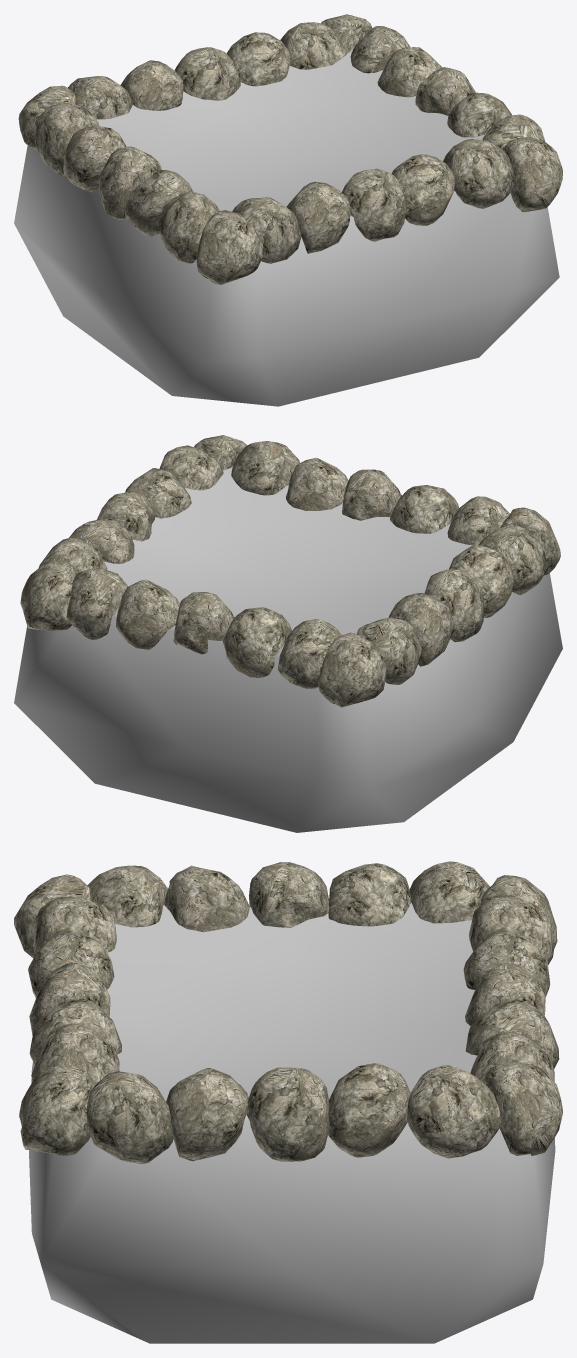
Rendered from dirtfoundation.FBX.
The picture shows the model from 3 angles, top to bottom: view 1: azimuth 30°, elevation 25°; view 2: azimuth 150°, elevation 25°; view 3: azimuth 270°, elevation 25°; orthographic projection. The views are drawn at different scales.
Parts seen in each view (by area): view 1: 00; view 2: 00; view 3: 00.
Boxes of the visible parts, box(x1,y1,x2,y2) form: 00: box(14, 14, 562, 406); 00: box(14, 435, 562, 832); 00: box(14, 861, 562, 1343).
Size of the model in its own units: 31.05 by 16.36 by 29.74.
